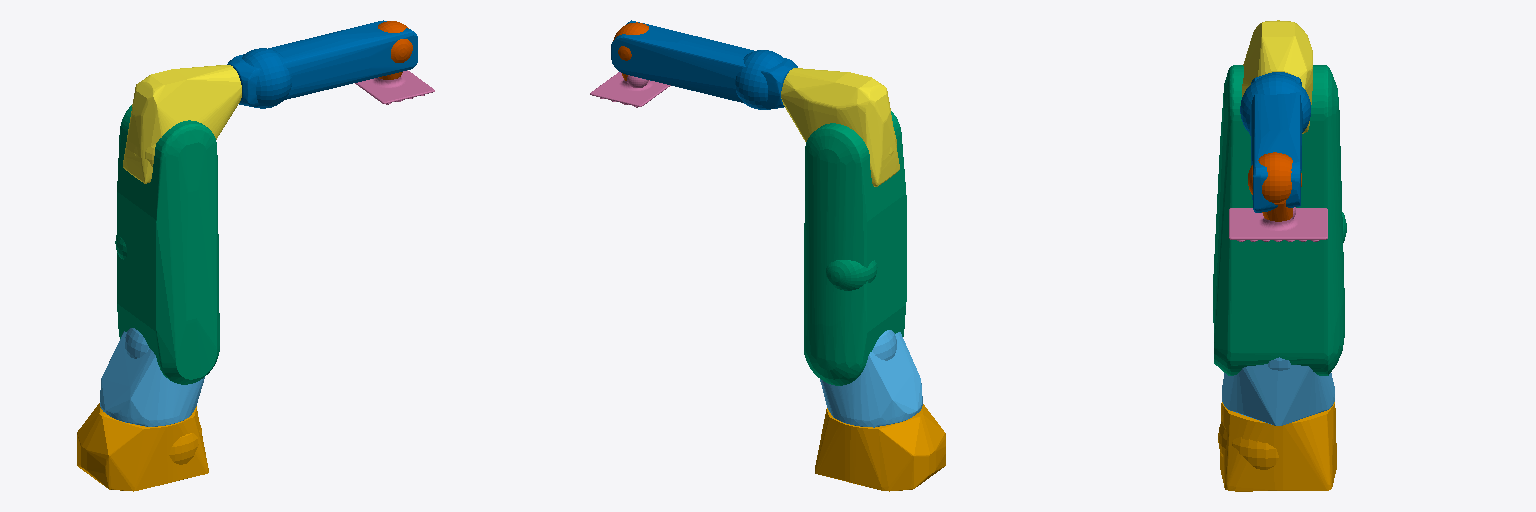
The robot description file, URDF, robot "NEX35_C00":
<?xml version="1.0" encoding="utf-8"?>
<robot name="NEX35_C00">
  <link name="base_link">
    <inertial>
      <origin xyz="-0.02300878 0.00116254 0.09104525" rpy="0 0 0"/>
      <mass value="33.61141205"/>
      <inertia ixx="0.72116661" ixy="-0.00477778" ixz="-0.02033925" iyy="0.8658879" iyz="0.00081811" izz="1.09421668"/>
    </inertial>
    <visual name="mesh">
      <geometry>
        <mesh filename="./meshes/mesh.obj"/>
      </geometry>
    </visual>
    <visual name="mesh">
      <geometry>
        <mesh filename="./meshes/mesh_1.obj"/>
      </geometry>
    </visual>
    <visual name="collision_sphere_1">
      <origin xyz="0.03916671 -0.04233852 0.13476828" rpy="0 0 0"/>
      <geometry>
        <sphere radius="0.17050873"/>
      </geometry>
    </visual>
    <collision name="mesh">
      <geometry>
        <mesh filename="./meshes/mesh_1.obj"/>
      </geometry>
    </collision>
  </link>
  <link name="link_1_s">
    <inertial>
      <origin xyz="0.03070187 0.00282687 -0.24685828" rpy="0 0 0"/>
      <mass value="134.96643066"/>
      <inertia ixx="5.28358401" ixy="-0.03705335" ixz="0.95107976" iyy="5.55557763" iyz="0.13617027" izz="1.9850589"/>
    </inertial>
    <visual name="mesh">
      <geometry>
        <mesh filename="./meshes/mesh_2.obj"/>
      </geometry>
    </visual>
    <visual name="mesh">
      <geometry>
        <mesh filename="./meshes/mesh_3.obj"/>
      </geometry>
    </visual>
    <visual name="collision_sphere_1">
      <origin xyz="0.07800443 0.00328271 -0.02989646" rpy="0 0 0"/>
      <geometry>
        <sphere radius="0.1636173"/>
      </geometry>
    </visual>
    <collision name="mesh">
      <geometry>
        <mesh filename="./meshes/mesh_3.obj"/>
      </geometry>
    </collision>
  </link>
  <link name="link_2_l">
    <inertial>
      <origin xyz="0.31760067 0.02104144 0.09409457" rpy="0 0 0"/>
      <mass value="98.20669556"/>
      <inertia ixx="1.94440323" ixy="0.21051477" ixz="-0.60194229" iyy="12.35123036" iyz="-0.0067843" izz="11.42621144"/>
    </inertial>
    <visual name="mesh">
      <geometry>
        <mesh filename="./meshes/mesh_4.obj"/>
      </geometry>
    </visual>
    <visual name="mesh">
      <geometry>
        <mesh filename="./meshes/mesh_5.obj"/>
      </geometry>
    </visual>
    <visual name="collision_sphere_1">
      <origin xyz="0.3956691 -0.04985584 0.12346559" rpy="-0.0000001 -0.0000001 -0.0000001"/>
      <geometry>
        <sphere radius="0.11779892"/>
      </geometry>
    </visual>
    <collision name="mesh">
      <geometry>
        <mesh filename="./meshes/mesh_5.obj"/>
      </geometry>
    </collision>
  </link>
  <link name="link_3_u">
    <inertial>
      <origin xyz="0.05993856 -0.02645832 0.02211809" rpy="0 0 0"/>
      <mass value="58.57447815"/>
      <inertia ixx="0.82820903" ixy="-0.16955938" ixz="-0.12062057" iyy="0.92208073" iyz="-0.10796745" izz="1.10329125"/>
    </inertial>
    <visual name="mesh">
      <geometry>
        <mesh filename="./meshes/mesh_6.obj"/>
      </geometry>
    </visual>
    <visual name="mesh">
      <geometry>
        <mesh filename="./meshes/mesh_7.obj"/>
      </geometry>
    </visual>
    <visual name="collision_sphere_1">
      <origin xyz="-0.01227033 0.01342185 0.0194843" rpy="0.00000005 -0.00000008 0"/>
      <geometry>
        <sphere radius="0.15831567"/>
      </geometry>
    </visual>
    <collision name="mesh">
      <geometry>
        <mesh filename="./meshes/mesh_7.obj"/>
      </geometry>
    </collision>
  </link>
  <link name="link_4_r">
    <inertial>
      <origin xyz="0.00036324 0.00629478 -0.54667819" rpy="0 0 0"/>
      <mass value="33.79233932"/>
      <inertia ixx="2.98316132" ixy="-0.00050498" ixz="-0.00008621" iyy="2.98393844" iyz="0.04391191" izz="0.15832693"/>
    </inertial>
    <visual name="mesh">
      <geometry>
        <mesh filename="./meshes/mesh_8.obj"/>
      </geometry>
    </visual>
    <visual name="mesh">
      <geometry>
        <mesh filename="./meshes/mesh_9.obj"/>
      </geometry>
    </visual>
    <visual name="collision_sphere_1">
      <origin xyz="-0.00123275 -0.00942386 0.60527015" rpy="-0.00000007 -0.00000016 0.00000004"/>
      <geometry>
        <sphere radius="0.12568256"/>
      </geometry>
    </visual>
    <collision name="mesh">
      <geometry>
        <mesh filename="./meshes/mesh_9.obj"/>
      </geometry>
    </collision>
  </link>
  <link name="link_5_b">
    <inertial>
      <origin xyz="0.00056188 -0.02061731 0.01488633" rpy="0 0 0"/>
      <mass value="10.80194855"/>
      <inertia ixx="0.04580622" ixy="-0.00055651" ixz="-0.00002335" iyy="0.03052108" iyz="0.00378398" izz="0.04579398"/>
    </inertial>
    <visual name="mesh">
      <geometry>
        <mesh filename="./meshes/mesh_10.obj"/>
      </geometry>
    </visual>
    <visual name="mesh">
      <geometry>
        <mesh filename="./meshes/mesh_11.obj"/>
      </geometry>
    </visual>
    <visual name="collision_sphere_1">
      <origin xyz="0.01289669 -0.00728905 0.01191205" rpy="0.00000015 -0.00000006 -0.00000014"/>
      <geometry>
        <sphere radius="0.09656746"/>
      </geometry>
    </visual>
    <collision name="mesh">
      <geometry>
        <mesh filename="./meshes/mesh_11.obj"/>
      </geometry>
    </collision>
  </link>
  <link name="link_6_t">
    <inertial>
      <origin xyz="0.00003926 -0.00003926 -0.01719011" rpy="0 0 0"/>
      <mass value="0.52598953"/>
      <inertia ixx="0.0005721" ixy="0.00000055" ixz="0.00000097" iyy="0.00057194" iyz="-0.00000009" izz="0.00057805"/>
    </inertial>
    <visual name="Mesh">
      <origin xyz="-0.00000001 0.00000001 -0.02779128" rpy="0 1.57079614 -1.57079622"/>
      <geometry>
        <mesh filename="./meshes/Mesh_12.obj" scale="0.001 0.001 0.001"/>
      </geometry>
    </visual>
    <visual name="mesh">
      <geometry>
        <mesh filename="./meshes/mesh_13.obj"/>
      </geometry>
    </visual>
    <visual name="mesh">
      <geometry>
        <mesh filename="./meshes/mesh_14.obj"/>
      </geometry>
    </visual>
    <visual name="collision_sphere_1">
      <origin xyz="0.01554303 0.01571065 0.01241821" rpy="0.00000006 0.00000012 0.00000011"/>
      <geometry>
        <sphere radius="0.04748178"/>
      </geometry>
    </visual>
    <collision name="mesh">
      <geometry>
        <mesh filename="./meshes/mesh_14.obj"/>
      </geometry>
    </collision>
  </link>
  <joint name="joint_1_s" type="revolute">
    <origin xyz="0 0 0.56" rpy="0 0 0"/>
    <parent link="base_link"/>
    <child link="link_1_s"/>
    <axis xyz="0 0 1"/>
    <limit lower="-2.96705946" upper="2.96705946" velocity="3.14159265"/>
    <dynamics friction="0"/>
    <!-- isaac:source_drive {"armature": 0.0, "drive": {"damping": 10.0, "max_force": 7480.0, "stiffness": 1000000.0, "target_position": 0.0}, "instance": "angular", "source": "physx"} -->
  </joint>
  <joint name="joint_2_l" type="revolute">
    <origin xyz="0.1 0 0" rpy="0 -1.57079624 -1.57079627"/>
    <parent link="link_1_s"/>
    <child link="link_2_l"/>
    <axis xyz="0 0 1"/>
    <limit lower="-1.57079633" upper="2.44346069" velocity="3.14159265"/>
    <dynamics friction="0"/>
    <!-- isaac:source_drive {"armature": 0.0, "drive": {"damping": 10.0, "max_force": 5500.0, "stiffness": 1000000.0, "target_position": 0.0}, "instance": "angular", "source": "physx"} -->
  </joint>
  <joint name="joint_3_u" type="revolute">
    <origin xyz="0.90000008 -0.00000014 0.00000004" rpy="-3.14159022 -0.0000001 -0.0000001"/>
    <parent link="link_2_l"/>
    <child link="link_3_u"/>
    <axis xyz="0 0 1"/>
    <limit lower="-1.43116985" upper="3.14159265" velocity="3.49065824"/>
    <dynamics friction="0"/>
    <!-- isaac:source_drive {"armature": 0.0, "drive": {"damping": 10.0, "max_force": 2500.0, "stiffness": 1000000.0, "target_position": 0.0}, "instance": "angular", "source": "physx"} -->
  </joint>
  <joint name="joint_4_r" type="revolute">
    <origin xyz="0.18499982 -1.04699997 0" rpy="-1.57079622 -0.00000008 0"/>
    <parent link="link_3_u"/>
    <child link="link_4_r"/>
    <axis xyz="0 0 1"/>
    <limit lower="-3.49065824" upper="3.49065824" velocity="6.10865238"/>
    <dynamics friction="0"/>
    <!-- isaac:source_drive {"armature": 0.0, "drive": {"damping": 10.0, "max_force": 612.5, "stiffness": 1000000.0, "target_position": 0.0}, "instance": "angular", "source": "physx"} -->
  </joint>
  <joint name="joint_5_b" type="revolute">
    <origin xyz="-0.0000001 0.00000015 0.00000021" rpy="1.57079619 -0.00000016 0.00000004"/>
    <parent link="link_4_r"/>
    <child link="link_5_b"/>
    <axis xyz="0 0 1"/>
    <limit lower="-0.61086517" upper="3.75245763" velocity="6.10865238"/>
    <dynamics friction="0"/>
    <!-- isaac:source_drive {"armature": 0.0, "drive": {"damping": 10.0, "max_force": 247.5, "stiffness": 1000000.0, "target_position": 0.0}, "instance": "angular", "source": "physx"} -->
  </joint>
  <joint name="joint_6_t" type="revolute">
    <origin xyz="-0.13 0.00000002 -0.00000001" rpy="0 1.57079613 -0.00000014"/>
    <parent link="link_5_b"/>
    <child link="link_6_t"/>
    <axis xyz="0 0 1"/>
    <limit lower="-6.28318531" upper="6.28318531" velocity="6.98131648"/>
    <dynamics friction="0"/>
    <!-- isaac:source_drive {"armature": 0.0, "drive": {"damping": 10.0, "max_force": 125.0, "stiffness": 1000000.0, "target_position": 0.0}, "instance": "angular", "source": "physx"} -->
  </joint>
</robot>

--- What the picture shows (computed from the rendered views, not written in the file) ---
3 views of the same robot in one strip: view 1: azimuth 30°, elevation 25°; view 2: azimuth 150°, elevation 25°; view 3: azimuth 270°, elevation 25° (orthographic).
Robot: NEX35_C00 — 7 links, 6 joints (6 revolute); root link base_link; default pose: every joint at zero.
Visible links, largest first — view 1: link_2_l, link_4_r, base_link, link_3_u, link_1_s, link_6_t, link_5_b; view 2: link_2_l, link_4_r, base_link, link_3_u, link_1_s, link_6_t; view 3: link_2_l, base_link, link_4_r, link_1_s, link_3_u, link_6_t, link_5_b.
Link boxes in pixels (x1=…): link_2_l: x1=115, y1=105, x2=219, y2=384; link_4_r: x1=227, y1=20, x2=417, y2=108; base_link: x1=77, y1=403, x2=208, y2=491; link_3_u: x1=123, y1=65, x2=241, y2=183; link_1_s: x1=100, y1=328, x2=204, y2=426; link_6_t: x1=355, y1=70, x2=434, y2=104; link_5_b: x1=378, y1=21, x2=412, y2=79; link_2_l: x1=804, y1=111, x2=906, y2=385; link_4_r: x1=611, y1=20, x2=797, y2=109; base_link: x1=815, y1=404, x2=945, y2=491; link_3_u: x1=781, y1=68, x2=899, y2=186; link_1_s: x1=820, y1=330, x2=922, y2=427; link_6_t: x1=590, y1=72, x2=670, y2=107; link_2_l: x1=1213, y1=65, x2=1346, y2=375; base_link: x1=1218, y1=402, x2=1336, y2=491; link_4_r: x1=1240, y1=72, x2=1310, y2=212; link_1_s: x1=1222, y1=357, x2=1334, y2=425; link_3_u: x1=1242, y1=20, x2=1312, y2=133; link_6_t: x1=1229, y1=207, x2=1327, y2=241; link_5_b: x1=1248, y1=152, x2=1301, y2=221.
Bounding box of the posed robot: 1.56 × 0.4715 × 1.81 m (x, y, z).
Meshes: 15 distinct files referenced, 10 mesh visuals loaded (10 OBJ); not drawn: 5 (reference not matched to a file when rendering).
